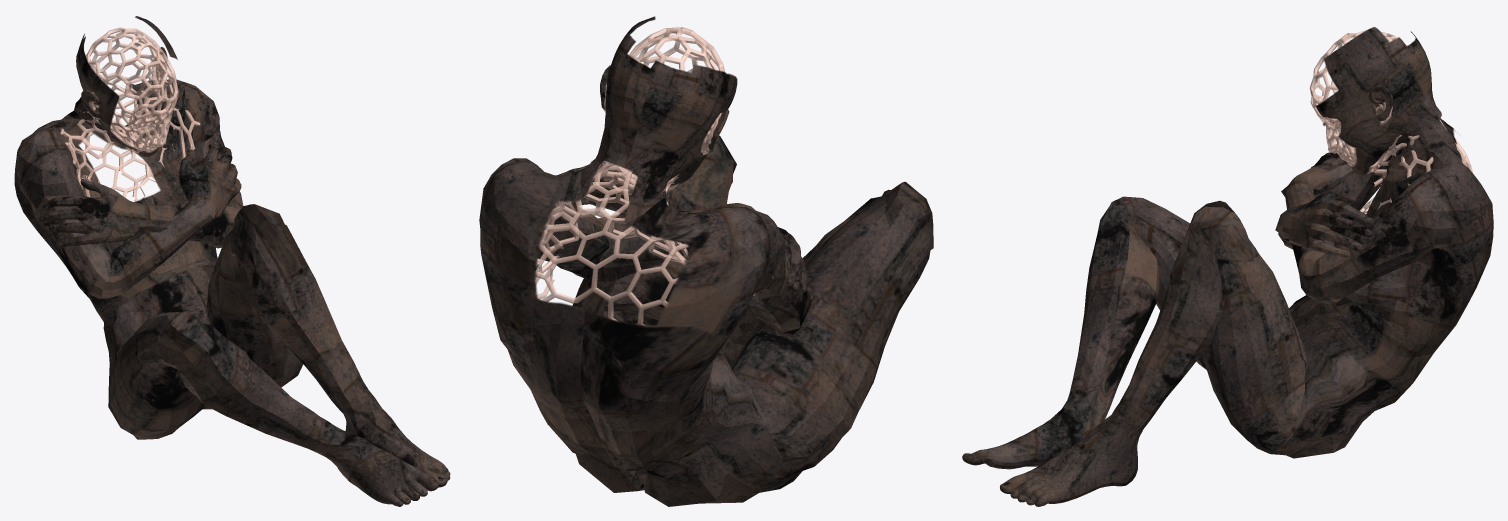
Rendered from cage_pose01_SP_Proj1.gltf.
The picture shows the model from 3 angles, left to right: view 1: azimuth 30°, elevation 25°; view 2: azimuth 150°, elevation 25°; view 3: azimuth 270°, elevation 25°; orthographic projection. The views are drawn at different scales.
Parts seen in each view (by area): view 1: Female_Skin1, normal2; view 2: Female_Skin1, normal2; view 3: Female_Skin1, normal2.
Part boxes in pixels (x1=…): Female_Skin1: x1=14, y1=16, x2=450, y2=506; normal2: x1=60, y1=27, x2=200, y2=201; Female_Skin1: x1=479, y1=16, x2=933, y2=506; normal2: x1=534, y1=27, x2=755, y2=325; Female_Skin1: x1=962, y1=27, x2=1493, y2=506; normal2: x1=1309, y1=29, x2=1472, y2=213.
Bounding box in the file's own units: 0.5083 × 0.7388 × 0.8683.
2 materials, 2 textured.
